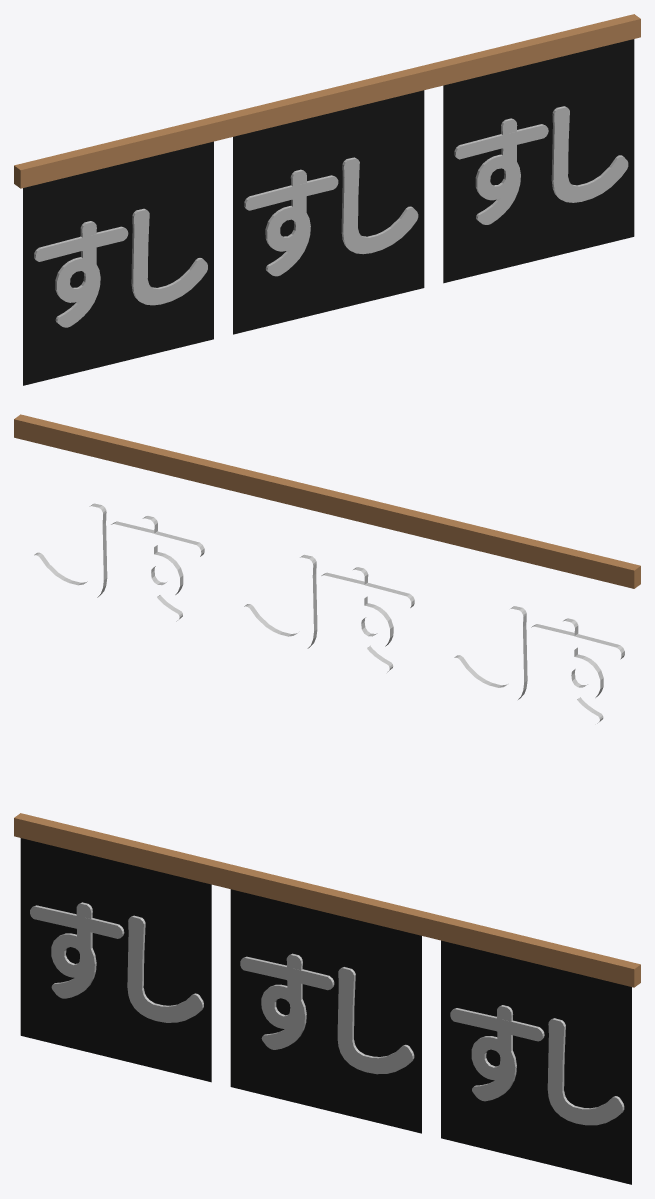
File: sign.glb
The picture shows the model from 3 angles, top to bottom: view 1: azimuth 30°, elevation 25°; view 2: azimuth 150°, elevation 25°; view 3: azimuth 330°, elevation 25°; orthographic projection.
Parts seen in each view (by area): view 1: Decoration_Sign; view 2: Decoration_Sign; view 3: Decoration_Sign.
Part boxes in pixels (x1,y1,x2,y2): Decoration_Sign: (14,14,640,385); Decoration_Sign: (14,414,640,723); Decoration_Sign: (14,813,640,1184).
Size of the model in its own units: 4.34 by 1.46 by 0.0804.
